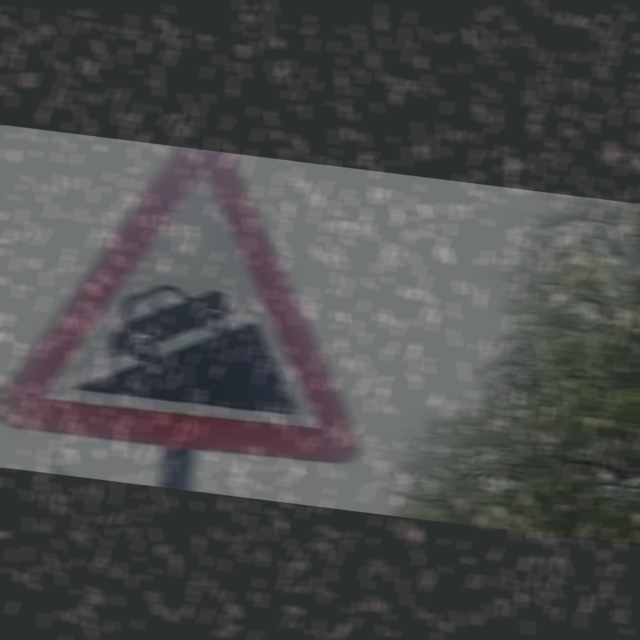Steep_Ascent: (12, 150, 383, 465)
